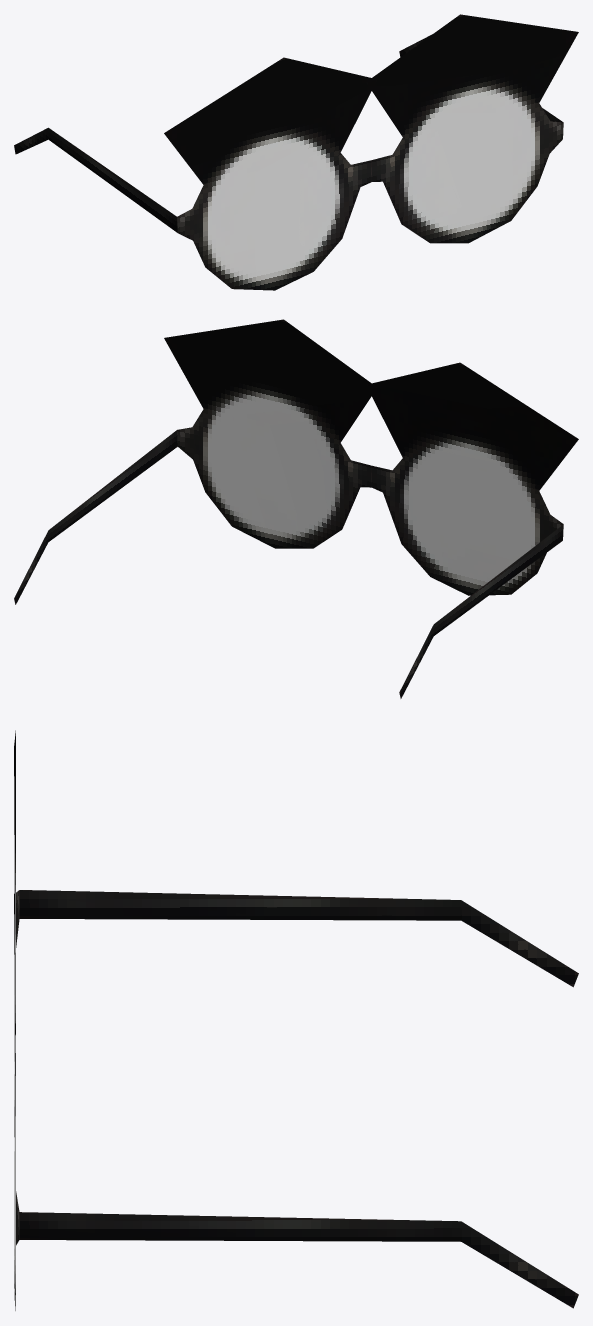
The model's file is tt_m_chr_avt_acc_msk_grouchoMarxEyebrow.glb.
The picture shows the model from 3 angles, top to bottom: view 1: azimuth 30°, elevation 25°; view 2: azimuth 150°, elevation 25°; view 3: azimuth 270°, elevation 25°; orthographic projection. The views are drawn at different scales.
Parts seen in each view (by area): view 1: tt_m_chr_avt_acc_msk_grouchoMarxNose_Eyebrow; view 2: tt_m_chr_avt_acc_msk_grouchoMarxNose_Eyebrow; view 3: tt_m_chr_avt_acc_msk_grouchoMarxNose_Eyebrow.
Part boxes in pixels (left/top/right/bottom): tt_m_chr_avt_acc_msk_grouchoMarxNose_Eyebrow: left=14, top=14, right=578, bottom=290; tt_m_chr_avt_acc_msk_grouchoMarxNose_Eyebrow: left=14, top=319, right=578, bottom=698; tt_m_chr_avt_acc_msk_grouchoMarxNose_Eyebrow: left=14, top=730, right=578, bottom=1310.
Bounding box in the file's own units: 3.72 × 1.98 × 2.57.
Materials: 1 (1 with a texture image).
